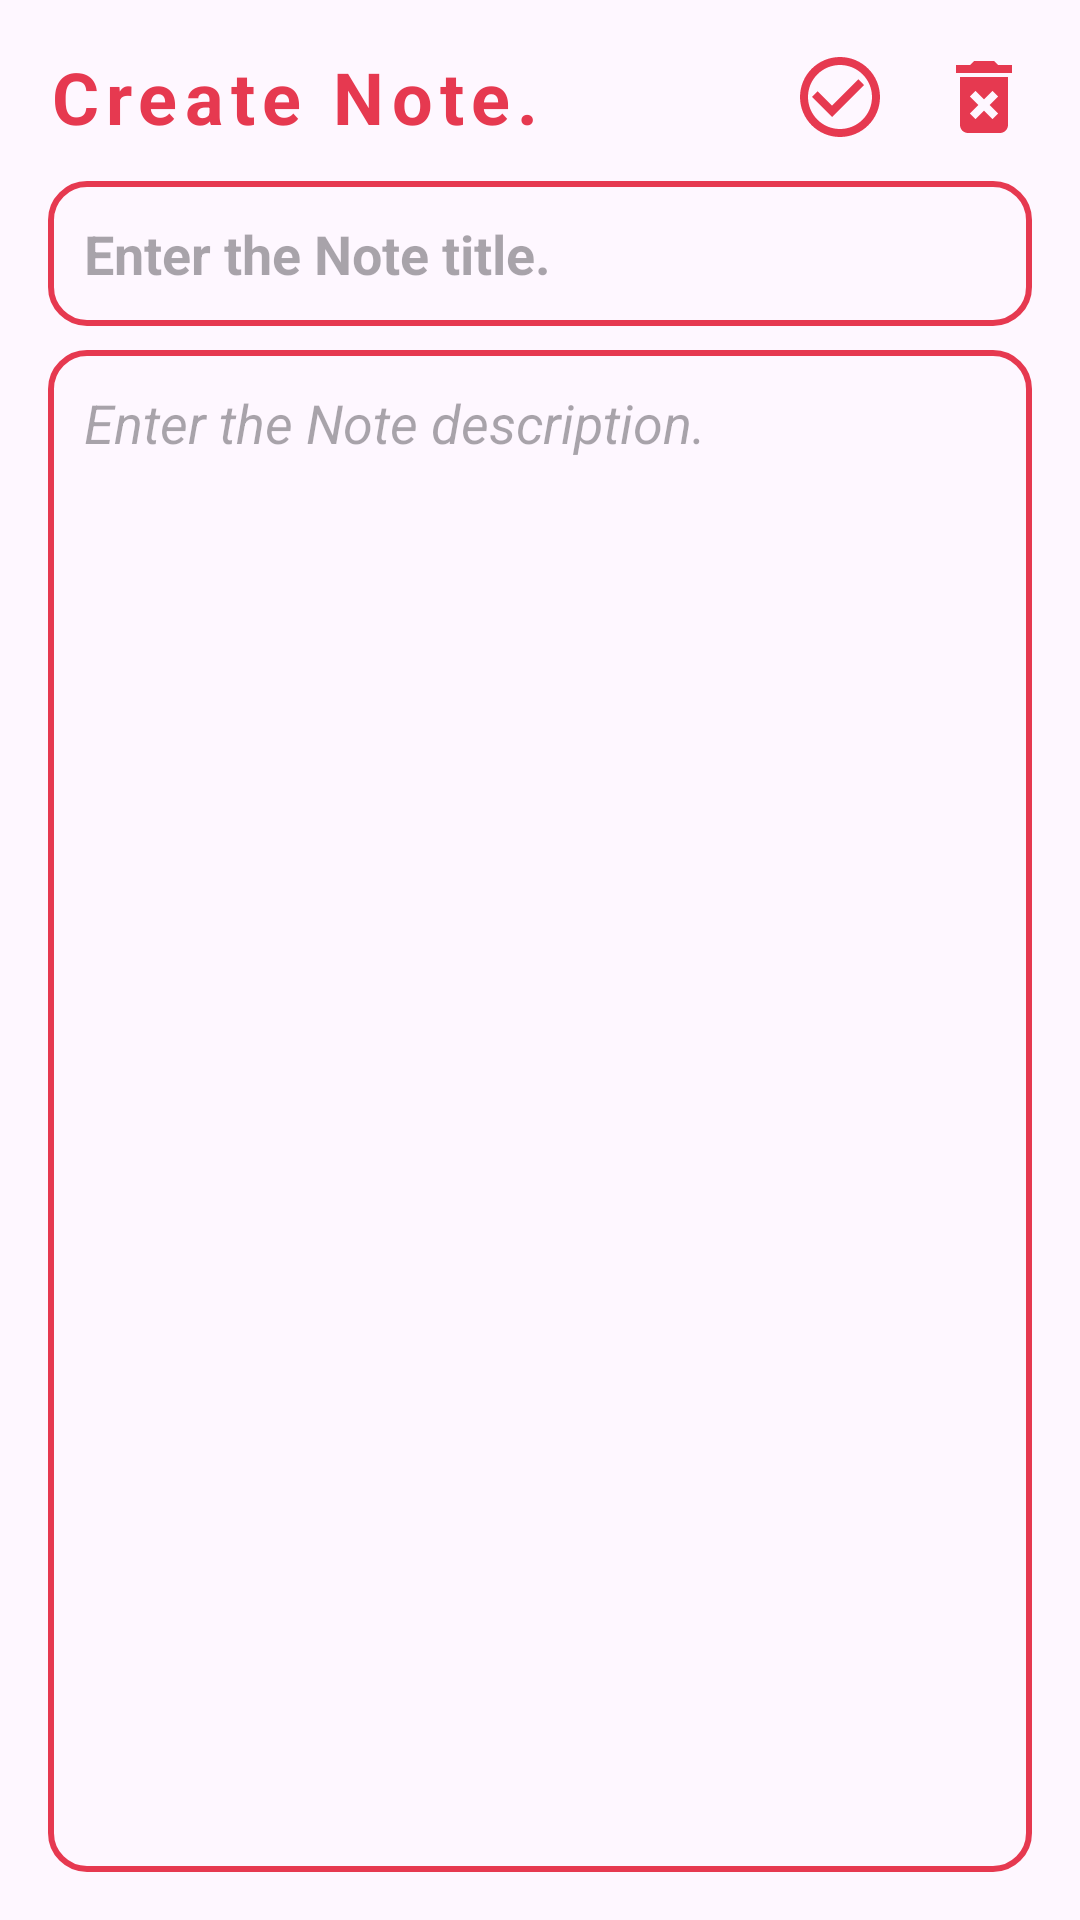

Screen size 1080w x 1920h. Icon name, then its box in pixels as (x1, y1, x2, y2):
delete: (956, 61, 1012, 133)
save: (800, 57, 880, 137)
